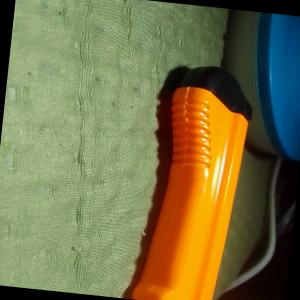estilete: (129, 58, 257, 300)
